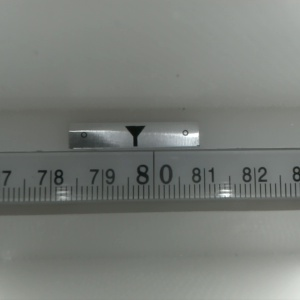0: (159, 164, 172, 184)
1: (208, 167, 215, 182)
2: (257, 167, 267, 182)
7: (36, 170, 47, 185), (88, 169, 98, 185), (1, 170, 11, 186)
8: (135, 164, 148, 184), (53, 169, 64, 185), (241, 167, 251, 183), (192, 167, 201, 183), (291, 166, 300, 181)
9: (104, 169, 114, 185)
finger: (123, 125, 146, 146)
